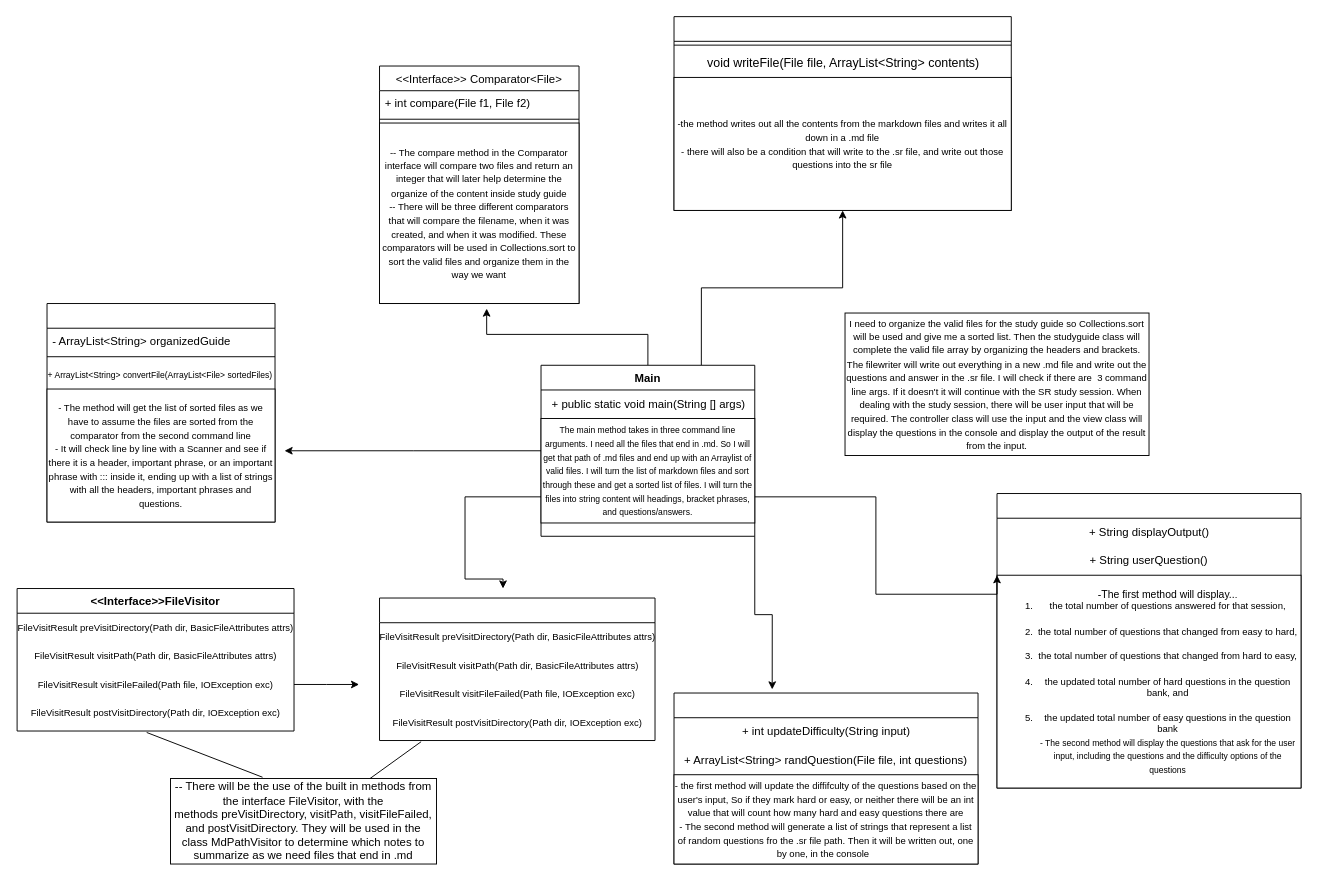
The diagram is 1318 pixels wide and 888 high, and some of its shapes have lost their labels. Each missing label, with the box of its shape:
Controller: (673, 692, 978, 864)
MarkDownFiles: (379, 597, 655, 741)
MdFileWriter: (673, 16, 1011, 210)
StudyGuide: (46, 303, 275, 522)
View: (996, 493, 1301, 788)
